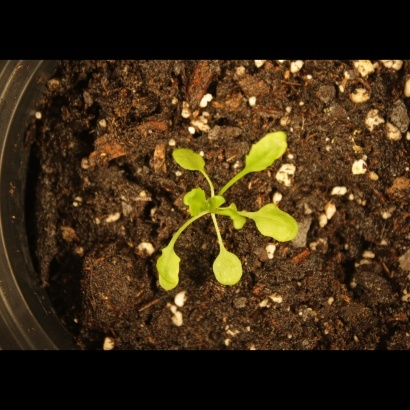leaf: (236, 128, 292, 176), (249, 202, 305, 250), (206, 239, 247, 291), (155, 239, 185, 293), (168, 140, 210, 176), (179, 182, 213, 220), (225, 202, 249, 234), (206, 191, 229, 214)
